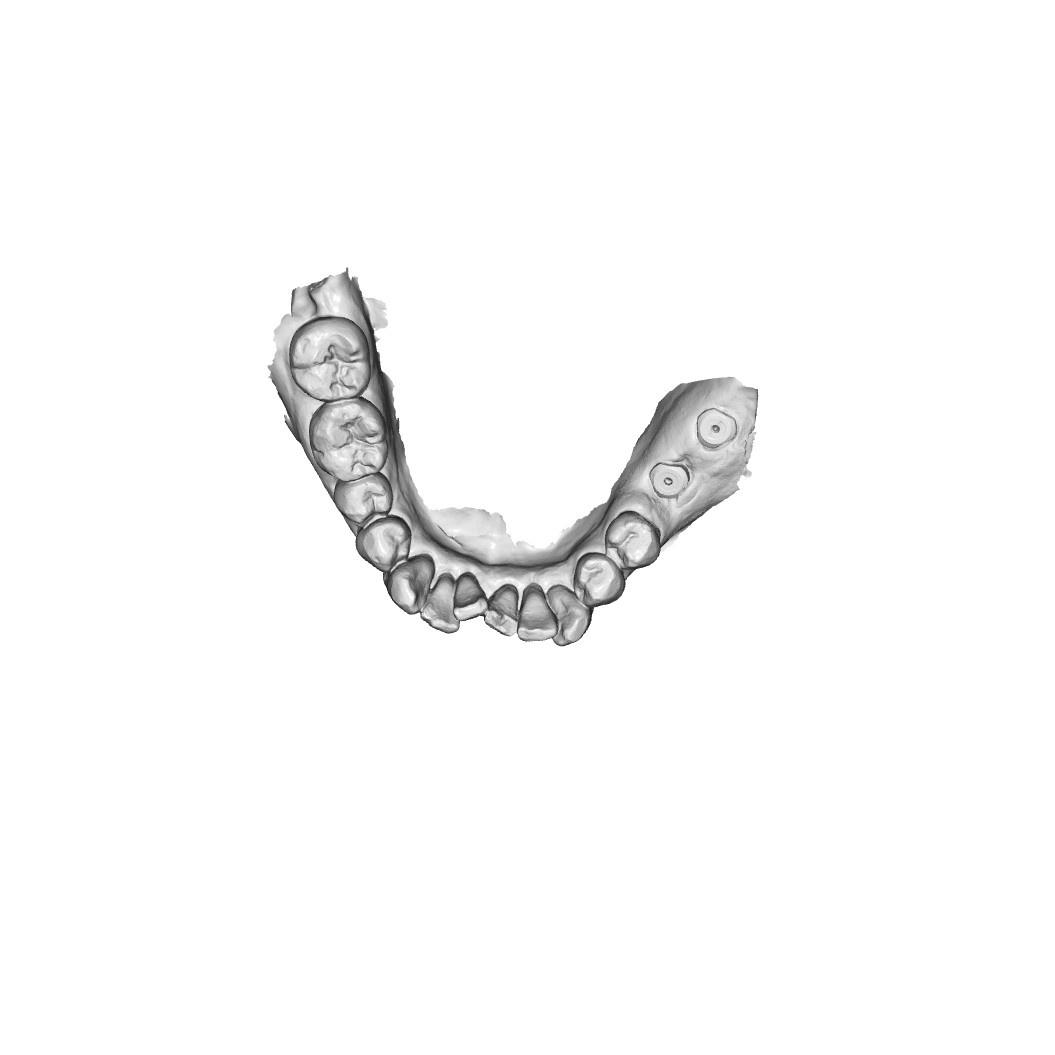canine: (383, 555, 436, 617), (549, 586, 592, 648)
implant: (693, 404, 739, 456), (649, 459, 690, 500)
incisor: (516, 583, 559, 642), (421, 575, 462, 636), (449, 570, 487, 623), (483, 583, 519, 638)
molar: (289, 313, 372, 402), (307, 401, 388, 481)
premolar: (602, 510, 663, 570), (354, 517, 413, 573), (331, 473, 392, 524), (572, 551, 626, 607)
